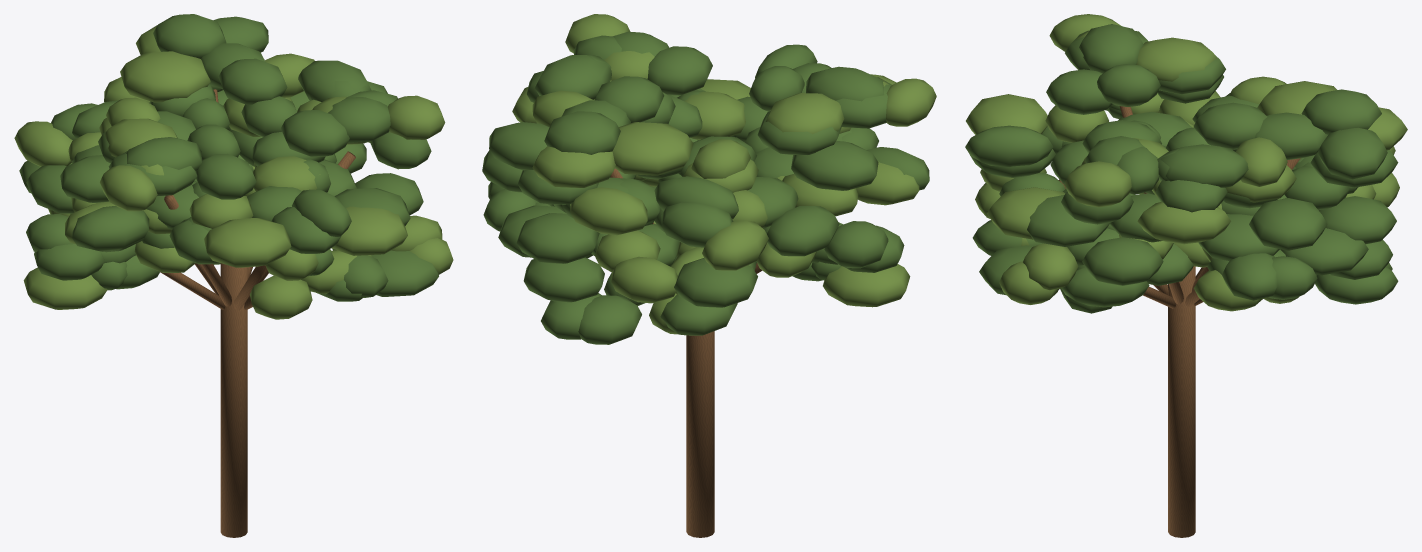
File: mc_tree.glb
3 views of the same model, side by side, from view 1: azimuth 30°, elevation 25°; view 2: azimuth 150°, elevation 25°; view 3: azimuth 270°, elevation 25° (orthographic). The views are drawn at different scales.
Visible parts, largest first — view 1: mc_tree__Geometry; view 2: mc_tree__Geometry; view 3: mc_tree__Geometry.
Boxes of the visible parts, x1=… form: mc_tree__Geometry: x1=14, y1=14, x2=453, y2=537; mc_tree__Geometry: x1=482, y1=14, x2=936, y2=537; mc_tree__Geometry: x1=965, y1=14, x2=1407, y2=537.
Size of the model in its own units: 6.34 by 7.27 by 6.42.
Materials: 3 (1 with a texture image).
